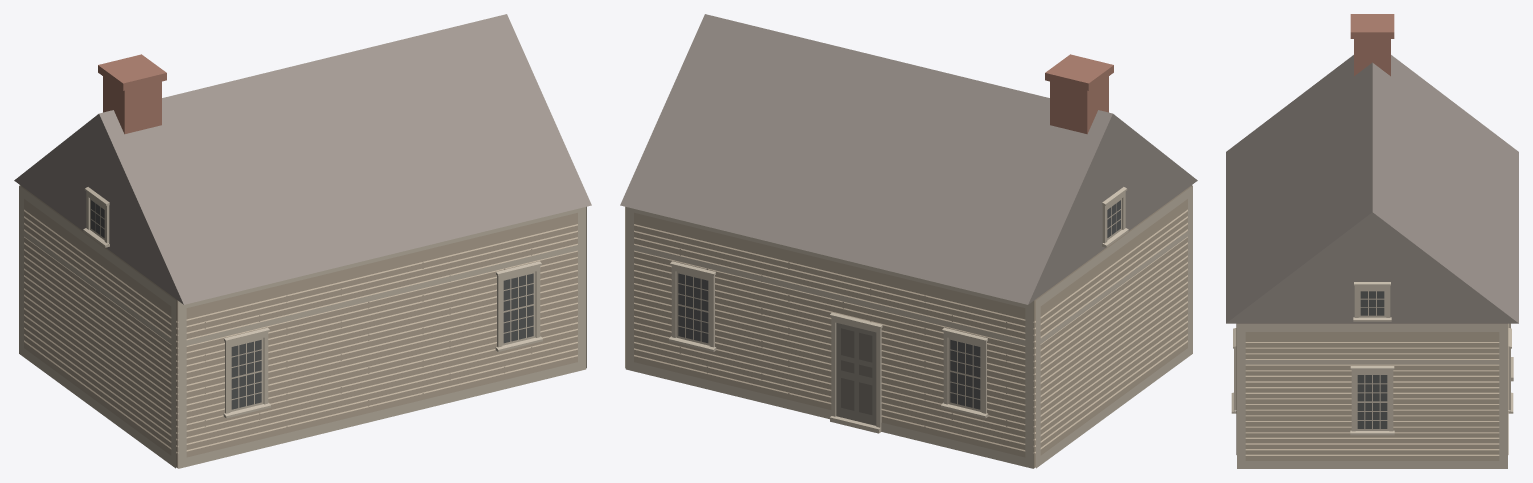
File: watkins_school_house__house_1833.glb
The picture shows the model from 3 angles, left to right: view 1: azimuth 30°, elevation 25°; view 2: azimuth 150°, elevation 25°; view 3: azimuth 270°, elevation 25°; orthographic projection. The views are drawn at different scales.
Parts seen in each view (by area): view 1: watkins_school_house__house_1833; view 2: watkins_school_house__house_1833; view 3: watkins_school_house__house_1833.
Boxes of the visible parts, x1,y1,x2,y2 form: watkins_school_house__house_1833: (14,14,591,468); watkins_school_house__house_1833: (620,14,1197,468); watkins_school_house__house_1833: (1226,14,1518,468).
Size of the model in its own units: 9.37 by 7.15 by 6.6.
